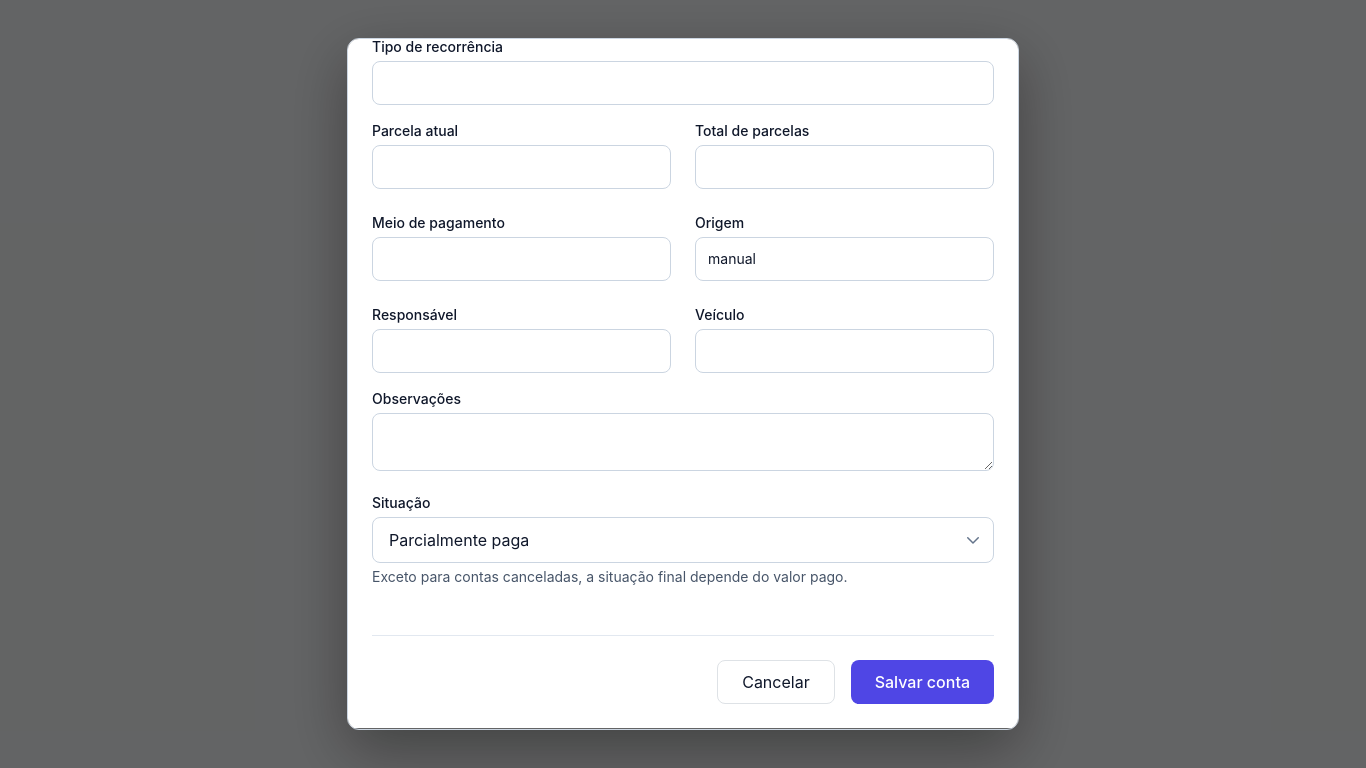
Test: ExpenseFormDialog › mantém valores e mostra erro inline quando salvar falha
(page scrolled)
Click the button "Salvar conta" at (922, 682), box [851,660,994,704]
(page scrolled)
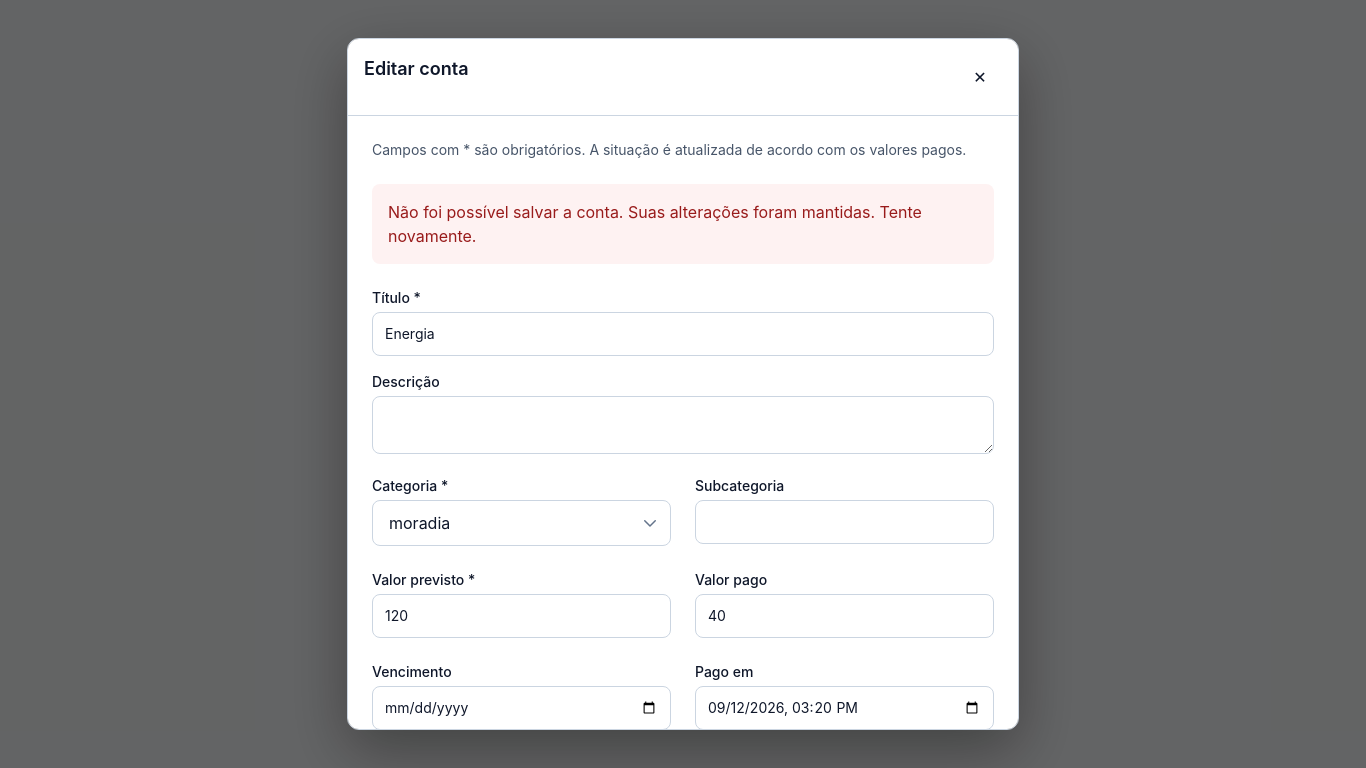
expect the message does not show "private details": met, box [372,184,994,264]
expect the message shows "Não foi possível salvar": met, box [388,202,922,246]
expect the field labelled "Título *" holds "Energia": met, box [372,312,994,356]
